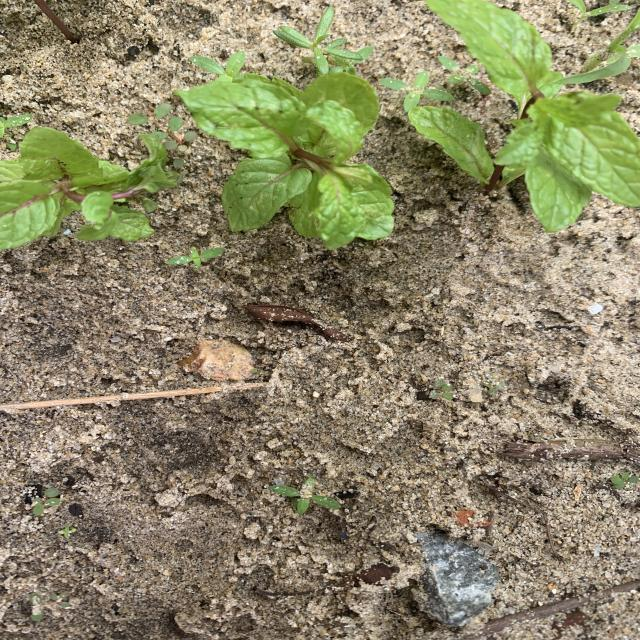crop: (411, 0, 640, 225), (175, 75, 394, 249), (0, 128, 167, 250)
weed: (273, 6, 373, 74), (565, 25, 640, 83), (379, 71, 454, 113), (271, 477, 341, 515), (438, 55, 491, 95), (141, 117, 198, 151), (166, 247, 225, 268), (25, 485, 61, 515), (128, 103, 171, 125), (582, 0, 629, 19), (0, 114, 33, 139), (608, 470, 640, 492), (430, 379, 458, 403), (169, 158, 185, 173), (468, 389, 482, 402)
